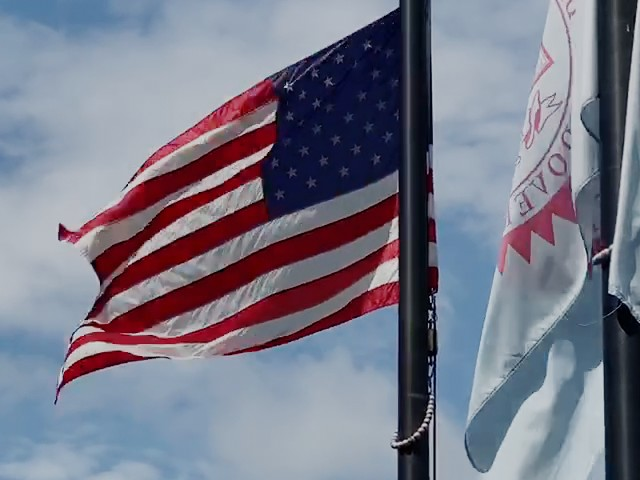America flag: (54, 6, 400, 409)
